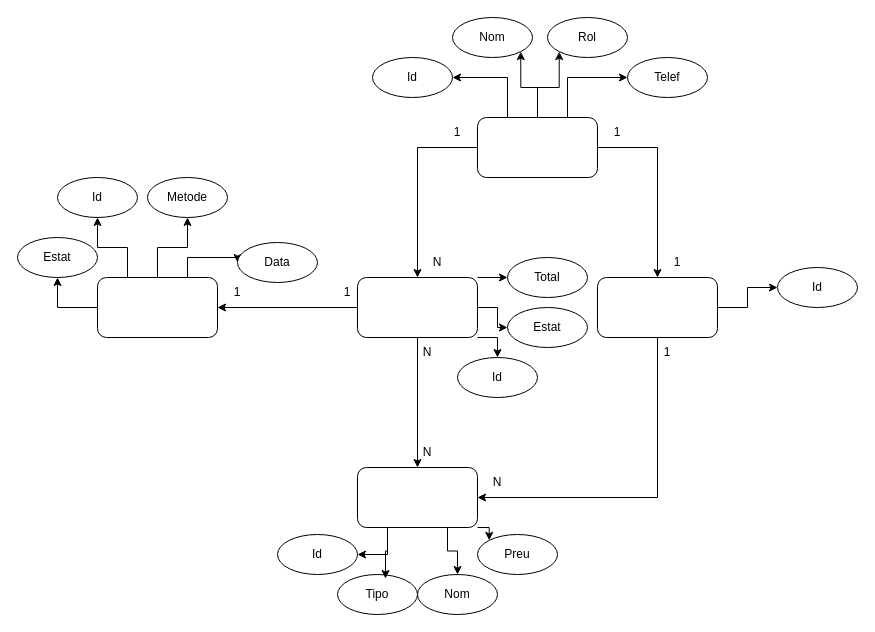
This 875x632 diagram has some shape labels left out. The shapes that lost their labels are listed below. From the top down, each one's centre as x and y in pixels, then its label:
At pixel 537 147: "Usuari".
At pixel 157 307: "Pagament".
At pixel 417 307: "Comanda".
At pixel 657 307: "Carrito".
At pixel 417 497: "Productes".
